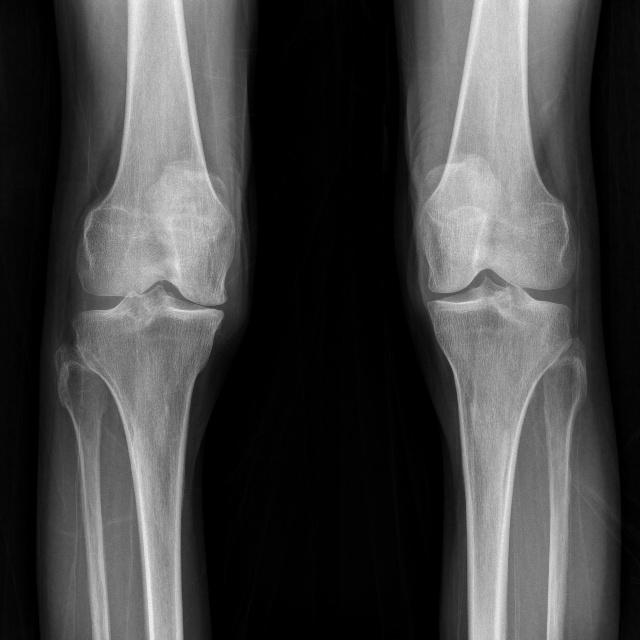Knee: (71, 224, 238, 378), (414, 225, 575, 369)
